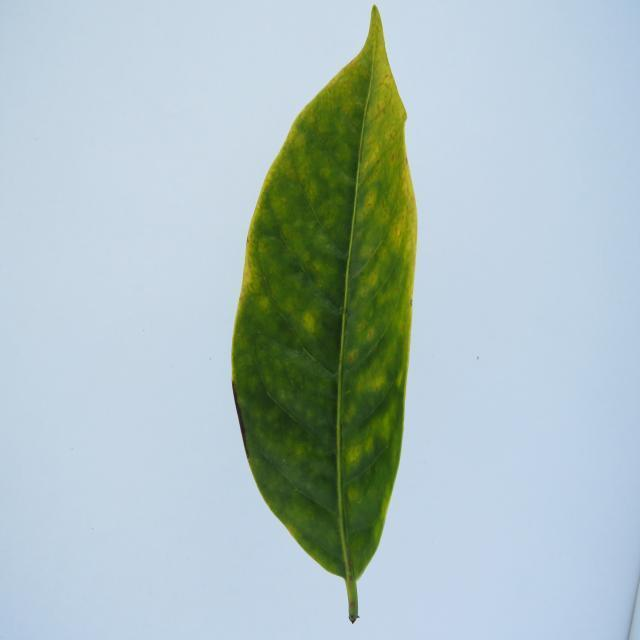DeficienciaNutricional-Magnesio: (232, 7, 418, 623)
